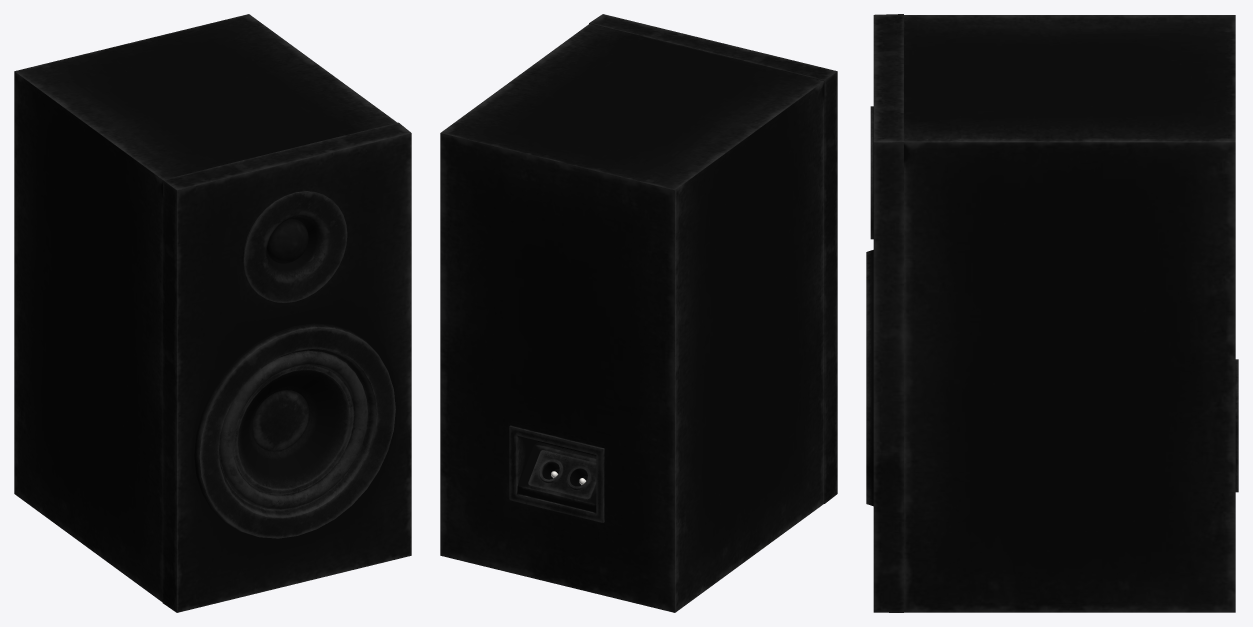
3 renders of one model, left to right at view 1: azimuth 30°, elevation 25°; view 2: azimuth 150°, elevation 25°; view 3: azimuth 270°, elevation 25°, orthographic. The views are drawn at different scales.
Parts seen in each view (by area): view 1: speaker_02_SM; view 2: speaker_02_SM; view 3: speaker_02_SM.
Boxes of the visible parts, bbox=[...] form: speaker_02_SM: bbox=[14, 14, 411, 612]; speaker_02_SM: bbox=[440, 14, 837, 612]; speaker_02_SM: bbox=[866, 14, 1238, 612].
Bounding box in the file's own units: 0.1005 × 0.1723 × 0.1235.
1 material, 1 textured.
